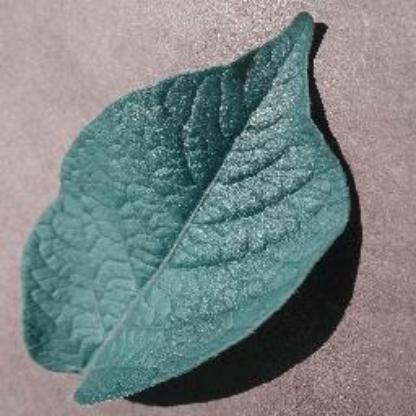Healthy-plant: (19, 12, 354, 408)
